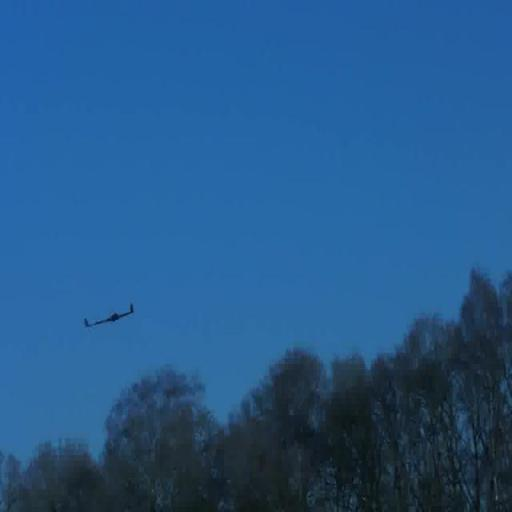uav: (82, 293, 140, 343)
